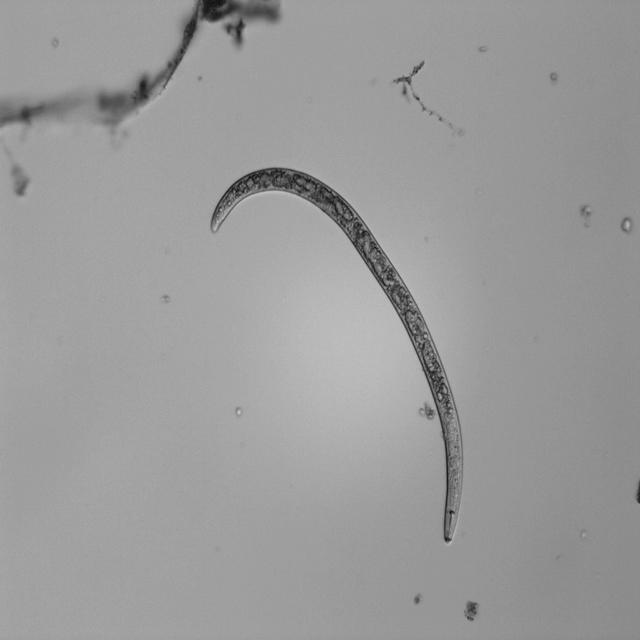Helicotylenchus: (202, 156, 468, 544)
